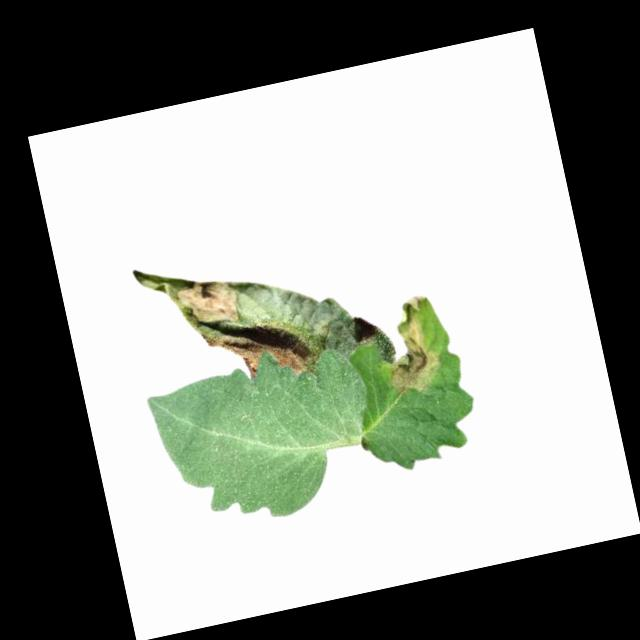Late_blight: (370, 292, 451, 401), (203, 318, 316, 391), (171, 274, 243, 335)
healthy: (142, 333, 390, 540)
